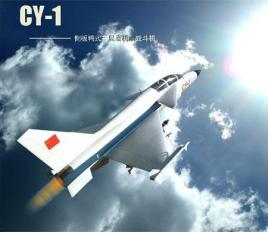airplane: (17, 66, 203, 198)
